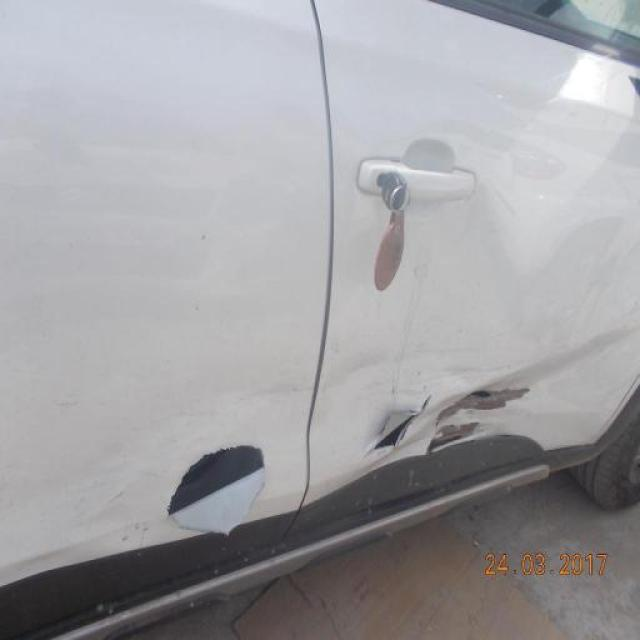scratch: (97, 342, 490, 514)
tear: (358, 369, 529, 461), (162, 435, 280, 534)
